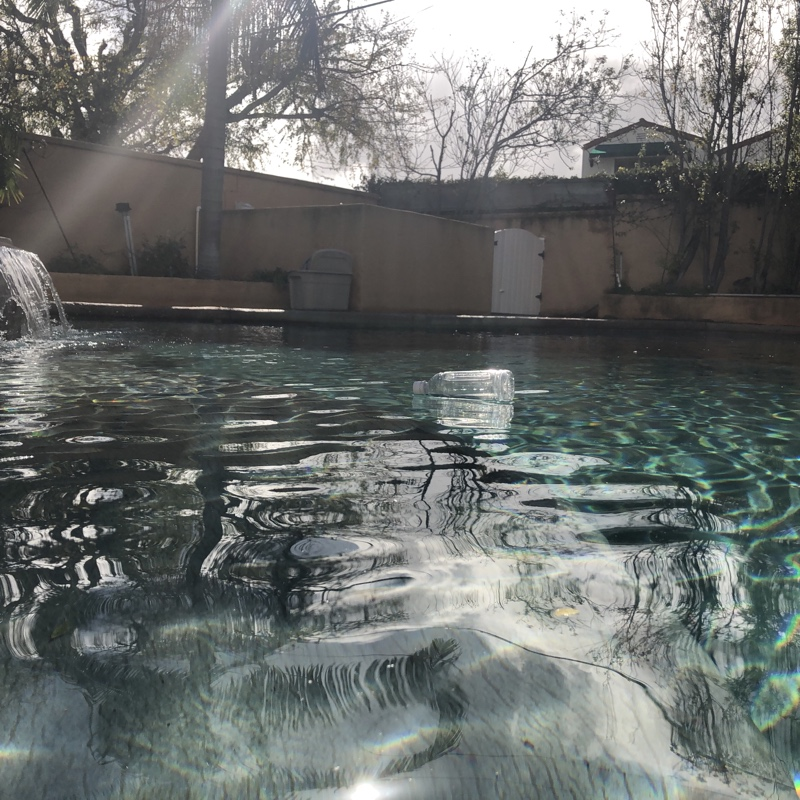Plastic Bottle: (407, 363, 517, 408)
